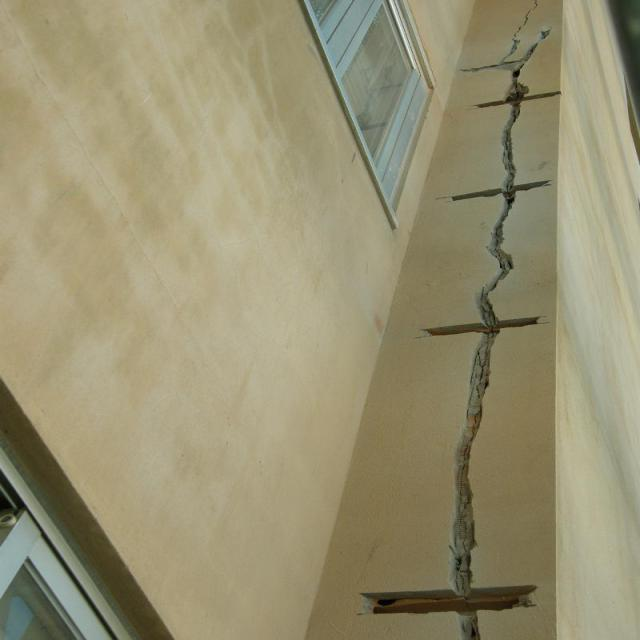crack: (445, 331, 505, 588), (457, 25, 549, 95), (473, 193, 518, 325), (500, 99, 525, 186)
